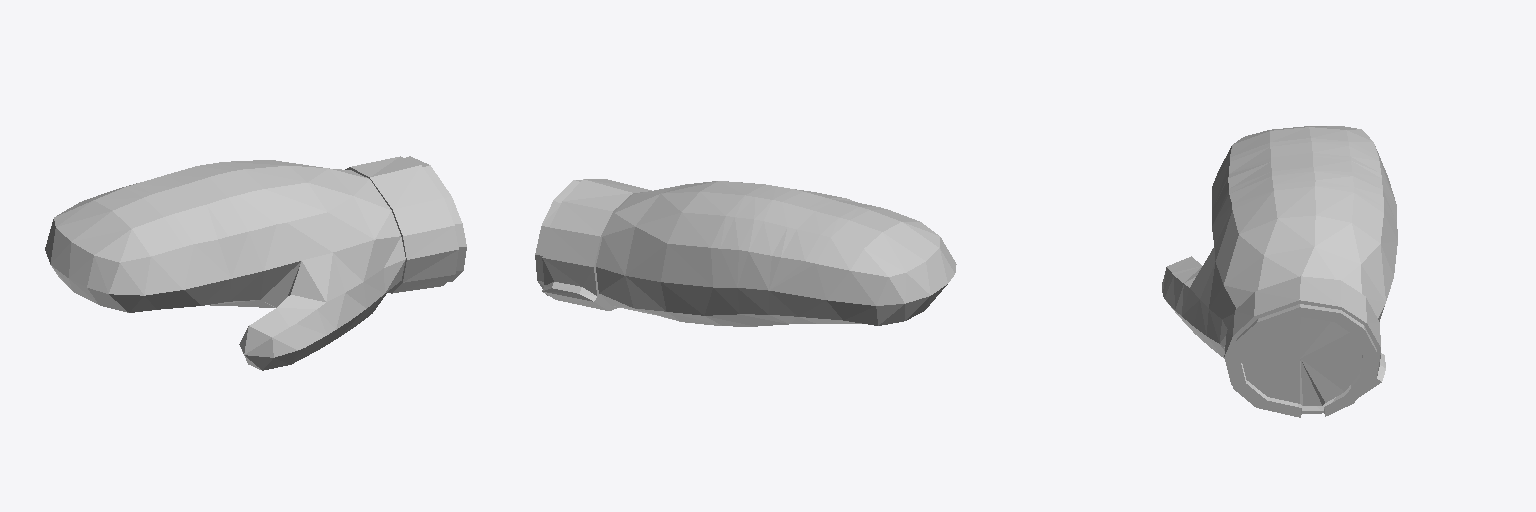
Rendered from MacmeshRightHand_rightHand.obj.
3 renders of one model, left to right at view 1: azimuth 30°, elevation 25°; view 2: azimuth 150°, elevation 25°; view 3: azimuth 270°, elevation 25°, orthographic.
Visible parts, largest first — view 1: node_Mesh_164_mesh_mesh0; view 2: node_Mesh_164_mesh_mesh0; view 3: node_Mesh_164_mesh_mesh0.
Part boxes in pixels (left/top/right/bottom): node_Mesh_164_mesh_mesh0: left=45, top=156, right=466, bottom=370; node_Mesh_164_mesh_mesh0: left=535, top=179, right=956, bottom=326; node_Mesh_164_mesh_mesh0: left=1162, top=126, right=1397, bottom=417.
Size of the model in its own units: 0.6599 by 0.2533 by 0.3661.